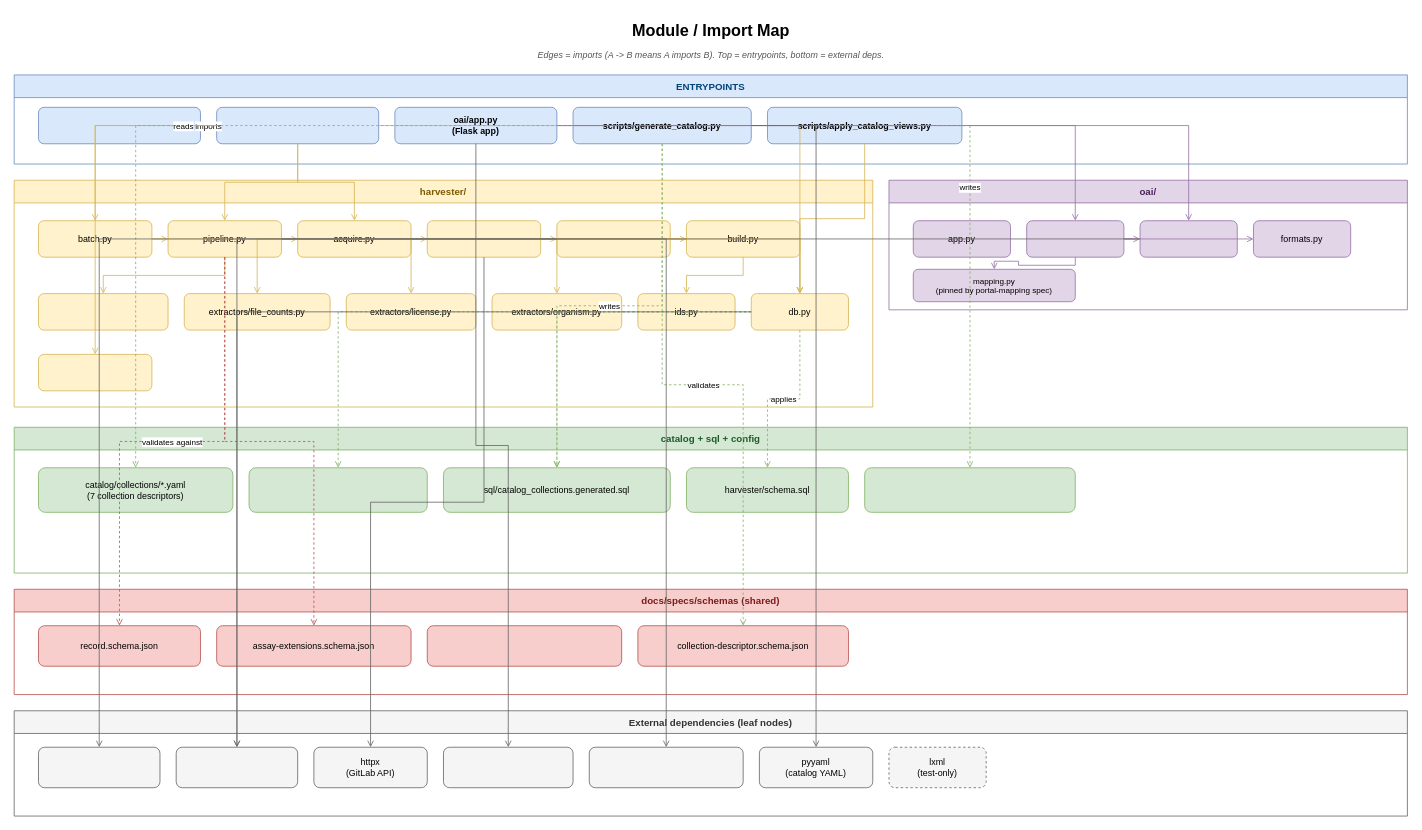
This 1422x830 diagram has some shape labels left out. The centre of each missing label's shape, as x and y in pixels:
"arctrl (ISA parsing)" goes at [99,767].
"audit.py" goes at [95,372].
"classifiers/omics.py" goes at [103,311].
"enumerate.py" goes at [483,238].
"flask + gunicorn (OAI HTTP server)" goes at [508,767].
"harvester/__main__.py" goes at [119,125].
"harvester/cli.py" goes at [297,125].
"isa_reader.py" goes at [613,238].
"jsonschema + referencing (record validation)" goes at [665,767].
"portal-document-schema.json" goes at [524,645].
"psycopg (Postgres driver)" goes at [236,767].
"pygeoapi-config.base.yml -> pygeoapi-config.yml (generated)" goes at [969,489].
"source.py" goes at [1188,238].
"sql/catalog_views.sql" goes at [337,489].
"verbs.py" goes at [1075,238].
